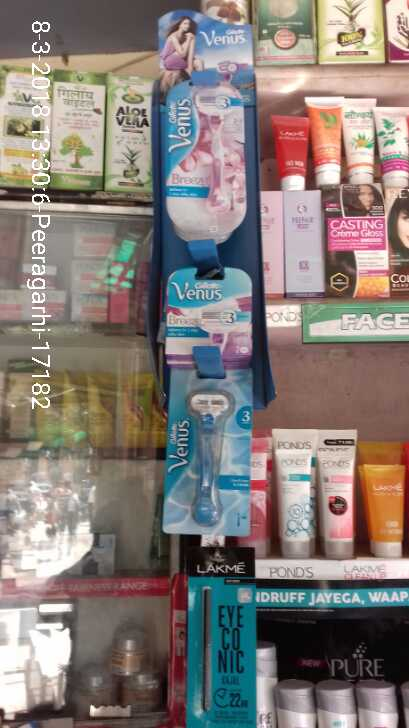venus: (156, 363, 254, 531), (163, 58, 247, 239), (166, 263, 252, 359)
